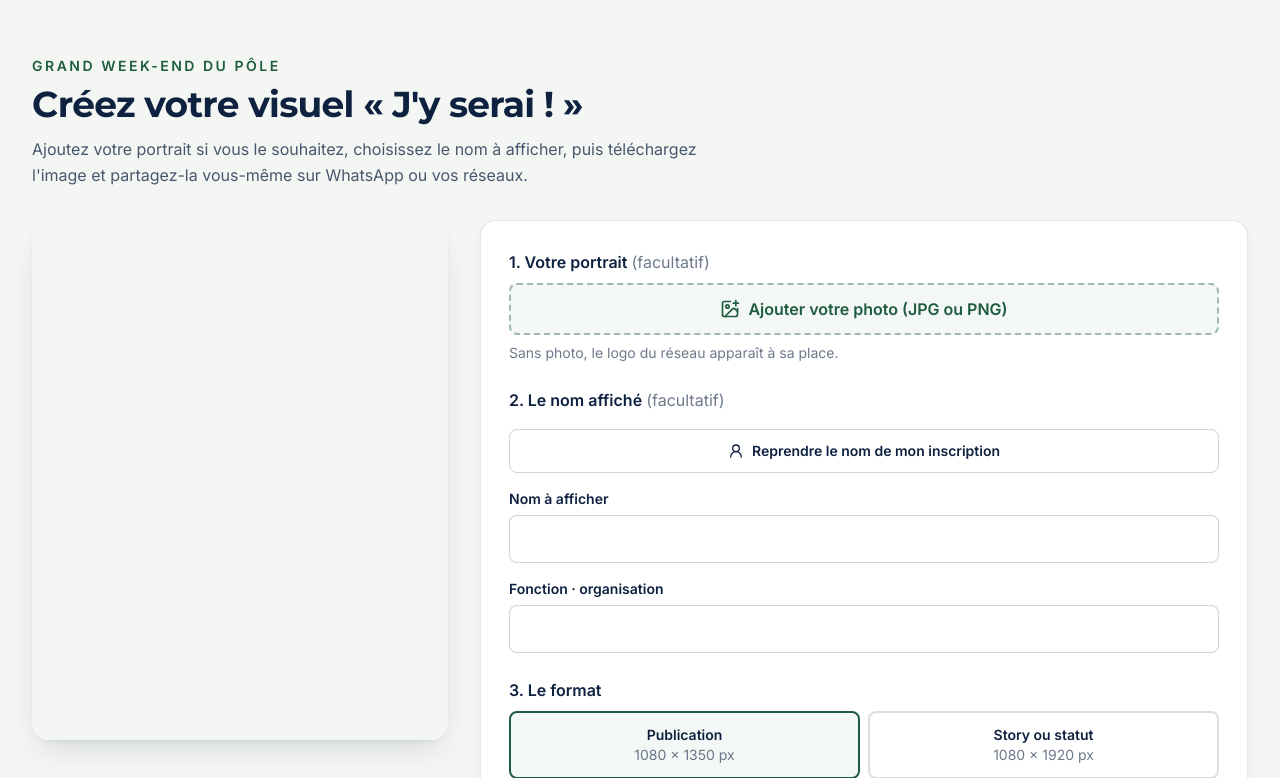
Visuel « J'y serai ! » › ne préremplit rien : le nom de l'inscription se reprend d'un clic
The image size is (1280, 778).
Check: the field labelled "Nom à afficher" is empty, box [509,515,1219,563]
Click the button "Reprendre le nom de mon inscription".
click(864, 451)  # box [509,429,1219,473]
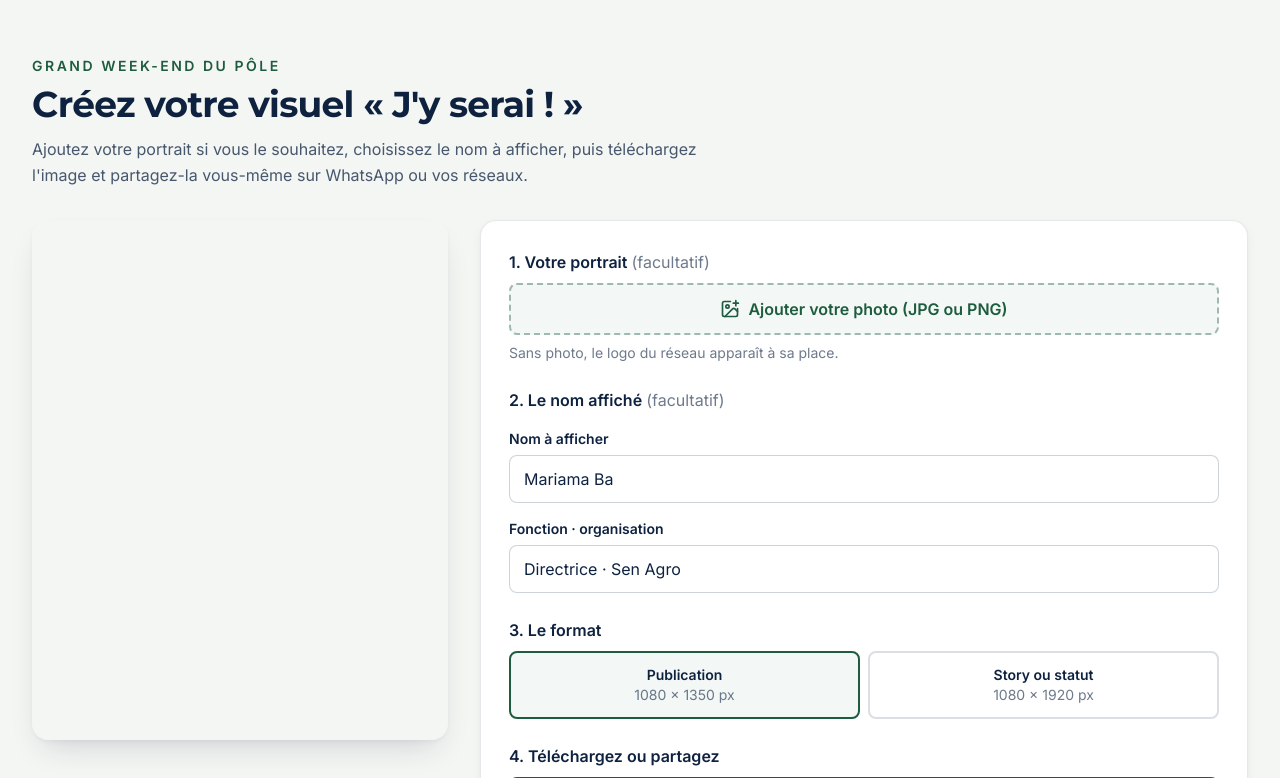
Check: the field labelled "Nom à afficher" holds "Mariama Ba", box [509,455,1219,503]
Check: the field labelled "Fonction · organisation" holds "Directrice · Sen Agro", box [509,545,1219,593]
